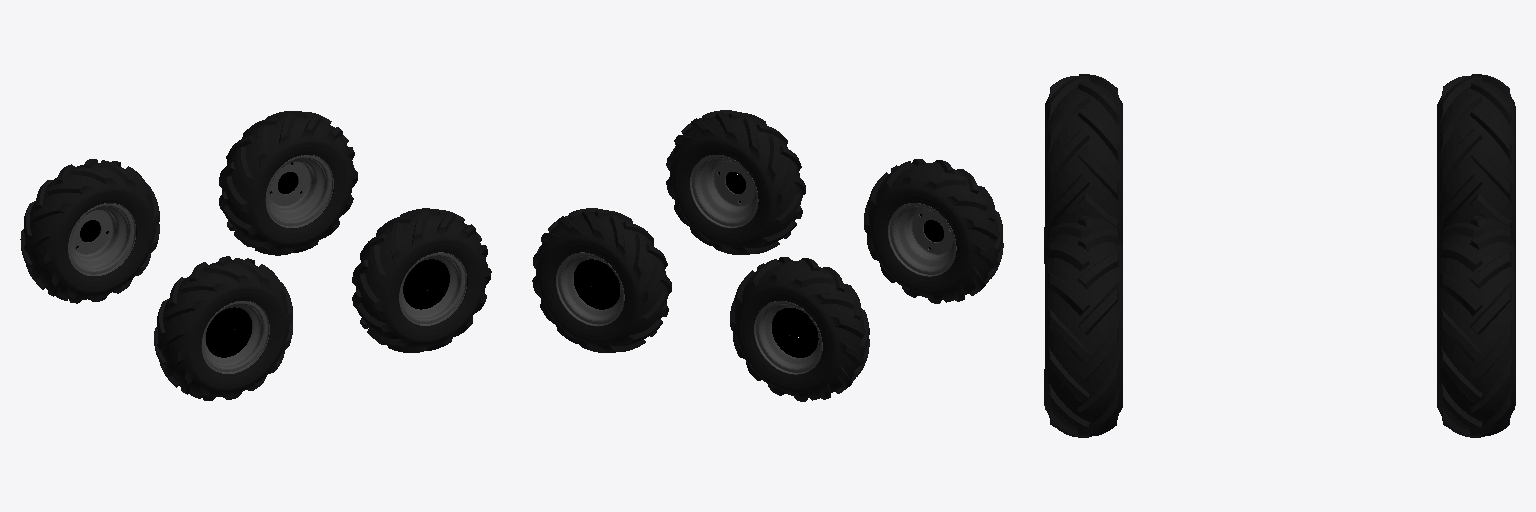
robot.urdf — scout_v2:
<?xml version="1.0" ?>
<!-- =================================================================================== -->
<!-- |    This document was autogenerated by xacro from scout_v2.xacro                 | -->
<!-- |    EDITING THIS FILE BY HAND IS NOT RECOMMENDED                                 | -->
<!-- =================================================================================== -->
<robot name="scout_v2">
  <!-- Base link -->
  <link name="base_link">
    <visual>
      <origin rpy="0 0 0" xyz="0 0 0"/>
      <geometry>
        <mesh filename="package://scout_description/meshes/scout_v2/base_link.dae"/>
      </geometry>
    </visual>
    <collision>
      <origin rpy="0 0 0" xyz="0 0 0.008"/>
      <geometry>
        <box size="0.925 0.38 0.21"/>
      </geometry>
    </collision>
    <collision>
      <origin rpy="0 0 0" xyz="0 0 0.034999999999999996"/>
      <geometry>
        <box size="0.15416666666666667 0.627 0.06999999999999999"/>
      </geometry>
    </collision>
  </link>
  <link name="base_footprint"/>
  <joint name="base_footprint_joint" type="fixed">
    <origin rpy="0 0 0" xyz="0 0 0.23479"/>
    <parent link="base_link"/>
    <child link="base_footprint"/>
  </joint>
  <link name="inertial_link">
    <inertial>
      <mass value="40"/>
      <origin xyz="0.0 0.0 0.0"/>
      <inertia ixx="2.288641" ixy="0" ixz="0" iyy="5.103976" iyz="0" izz="3.431465"/>
    </inertial>
  </link>
  <joint name="inertial_joint" type="fixed">
    <origin rpy="0 0 0" xyz="0 0 0"/>
    <parent link="base_link"/>
    <child link="inertial_link"/>
  </joint>
  <link name="front_right_wheel_link">
    <inertial>
      <mass value="3"/>
      <origin xyz="0 0 0"/>
      <inertia ixx="0.7171" ixy="0" ixz="0" iyy="0.1361" iyz="0" izz="0.7171"/>
    </inertial>
    <visual>
      <origin rpy="0 0 0" xyz="0 0 0"/>
      <geometry>
        <mesh filename="package://robot_description/meshes/scout_v2/wheel_type1.dae"/>
      </geometry>
    </visual>
    <collision>
      <origin rpy="1.570795 0 0" xyz="0 0 0"/>
      <geometry>
        <cylinder length="0.11653" radius="0.16459"/>
      </geometry>
    </collision>
  </link>
  <joint name="front_right_wheel" type="fixed">
    <parent link="base_link"/>
    <child link="front_right_wheel_link"/>
    <origin rpy="3.14 0 0" xyz="0.249 -0.29153 -0.0702"/>
    <axis rpy="0 0 0" xyz="0 -1 0"/>
  </joint>
  <link name="front_left_wheel_link">
    <inertial>
      <mass value="3"/>
      <origin xyz="0 0 0"/>
      <inertia ixx="0.7171" ixy="0" ixz="0" iyy="0.1361" iyz="0" izz="0.7171"/>
    </inertial>
    <visual>
      <origin rpy="0 0 0" xyz="0 0 0"/>
      <geometry>
        <mesh filename="package://robot_description/meshes/scout_v2/wheel_type2.dae"/>
      </geometry>
    </visual>
    <collision>
      <origin rpy="1.570795 0 0" xyz="0 0 0"/>
      <geometry>
        <cylinder length="0.11653" radius="0.16459"/>
      </geometry>
    </collision>
  </link>
  <joint name="front_left_wheel" type="fixed">
    <parent link="base_link"/>
    <child link="front_left_wheel_link"/>
    <origin rpy="0 0 0" xyz="0.249 0.29153 -0.0702"/>
    <axis rpy="0 0 0" xyz="0 -1 0"/>
  </joint>
  <link name="rear_left_wheel_link">
    <inertial>
      <mass value="3"/>
      <origin xyz="0 0 0"/>
      <inertia ixx="0.7171" ixy="0" ixz="0" iyy="0.1361" iyz="0" izz="0.7171"/>
    </inertial>
    <visual>
      <origin rpy="0 0 0" xyz="0 0 0"/>
      <geometry>
        <mesh filename="package://robot_description/meshes/scout_v2/wheel_type1.dae"/>
      </geometry>
    </visual>
    <collision>
      <origin rpy="1.570795 0 0" xyz="0 0 0"/>
      <geometry>
        <cylinder length="0.11653" radius="0.16459"/>
      </geometry>
    </collision>
  </link>
  <joint name="rear_left_wheel" type="fixed">
    <parent link="base_link"/>
    <child link="rear_left_wheel_link"/>
    <origin rpy="0 0 0" xyz="-0.249 0.29153 -0.0702"/>
    <axis rpy="0 0 0" xyz="0 -1 0"/>
  </joint>
  <link name="rear_right_wheel_link">
    <inertial>
      <mass value="3"/>
      <origin xyz="0 0 0"/>
      <inertia ixx="0.7171" ixy="0" ixz="0" iyy="0.1361" iyz="0" izz="0.7171"/>
    </inertial>
    <visual>
      <origin rpy="0 0 0" xyz="0 0 0"/>
      <geometry>
        <mesh filename="package://robot_description/meshes/scout_v2/wheel_type2.dae"/>
      </geometry>
    </visual>
    <collision>
      <origin rpy="1.570795 0 0" xyz="0 0 0"/>
      <geometry>
        <cylinder length="0.11653" radius="0.16459"/>
      </geometry>
    </collision>
  </link>
  <joint name="rear_right_wheel" type="fixed">
    <parent link="base_link"/>
    <child link="rear_right_wheel_link"/>
    <origin rpy="3.14 0 0" xyz="-0.249 -0.29153 -0.0702"/>
    <axis rpy="0 0 0" xyz="0 -1 0"/>
  </joint>
</robot>

--- Facts derived from the render (not from the file) ---
Views: 3 orthographic renders of the robot side by side, from view 1: azimuth 30°, elevation 25°; view 2: azimuth 150°, elevation 25°; view 3: azimuth 270°, elevation 25°.
Robot: scout_v2 — 7 links, 6 joints (6 fixed); root link base_link; default pose: every joint at zero.
Links seen in each view (by area): view 1: front_right_wheel_link, rear_right_wheel_link, front_left_wheel_link, rear_left_wheel_link; view 2: rear_left_wheel_link, front_left_wheel_link, front_right_wheel_link, rear_right_wheel_link; view 3: front_left_wheel_link, front_right_wheel_link, rear_left_wheel_link, rear_right_wheel_link.
Link boxes in pixels (x1,y1,x2,y2): front_right_wheel_link: (352, 208, 491, 352); rear_right_wheel_link: (154, 256, 292, 400); front_left_wheel_link: (219, 111, 357, 255); rear_left_wheel_link: (20, 159, 159, 303); rear_left_wheel_link: (730, 257, 869, 401); front_left_wheel_link: (532, 208, 671, 352); front_right_wheel_link: (666, 110, 805, 254); rear_right_wheel_link: (864, 159, 1003, 303); front_left_wheel_link: (1437, 216, 1515, 437); front_right_wheel_link: (1044, 216, 1122, 437); rear_left_wheel_link: (1437, 74, 1515, 247); rear_right_wheel_link: (1044, 74, 1122, 263).
Bounding box of the posed robot: 0.8277 × 0.6996 × 0.33 m (x, y, z).
Meshes: 3 distinct files referenced, 4 mesh visuals loaded (2 Collada DAE); not drawn: 1 (reference not matched to a file when rendering).
